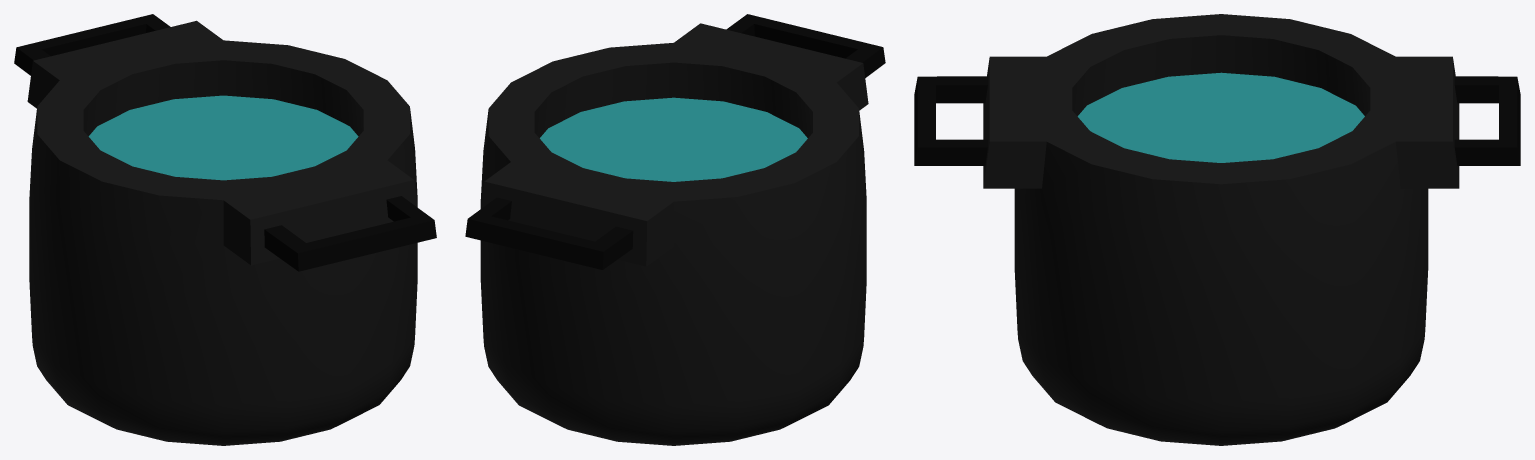
The model's file is OLLAHIRVIENTE_PRP.fbx.
The picture shows the model from 3 angles, left to right: view 1: azimuth 30°, elevation 25°; view 2: azimuth 150°, elevation 25°; view 3: azimuth 270°, elevation 25°; orthographic projection. The views are drawn at different scales.
Parts seen in each view (by area): view 1: OLLAHIRVIENTE_PRP; view 2: OLLAHIRVIENTE_PRP; view 3: OLLAHIRVIENTE_PRP.
Part boxes in pixels (left/top/right/bottom): OLLAHIRVIENTE_PRP: left=14, top=14, right=436, bottom=445; OLLAHIRVIENTE_PRP: left=465, top=14, right=885, bottom=445; OLLAHIRVIENTE_PRP: left=914, top=14, right=1520, bottom=445.
Bounding box in the file's own units: 23.63 × 17.09 × 34.13.
